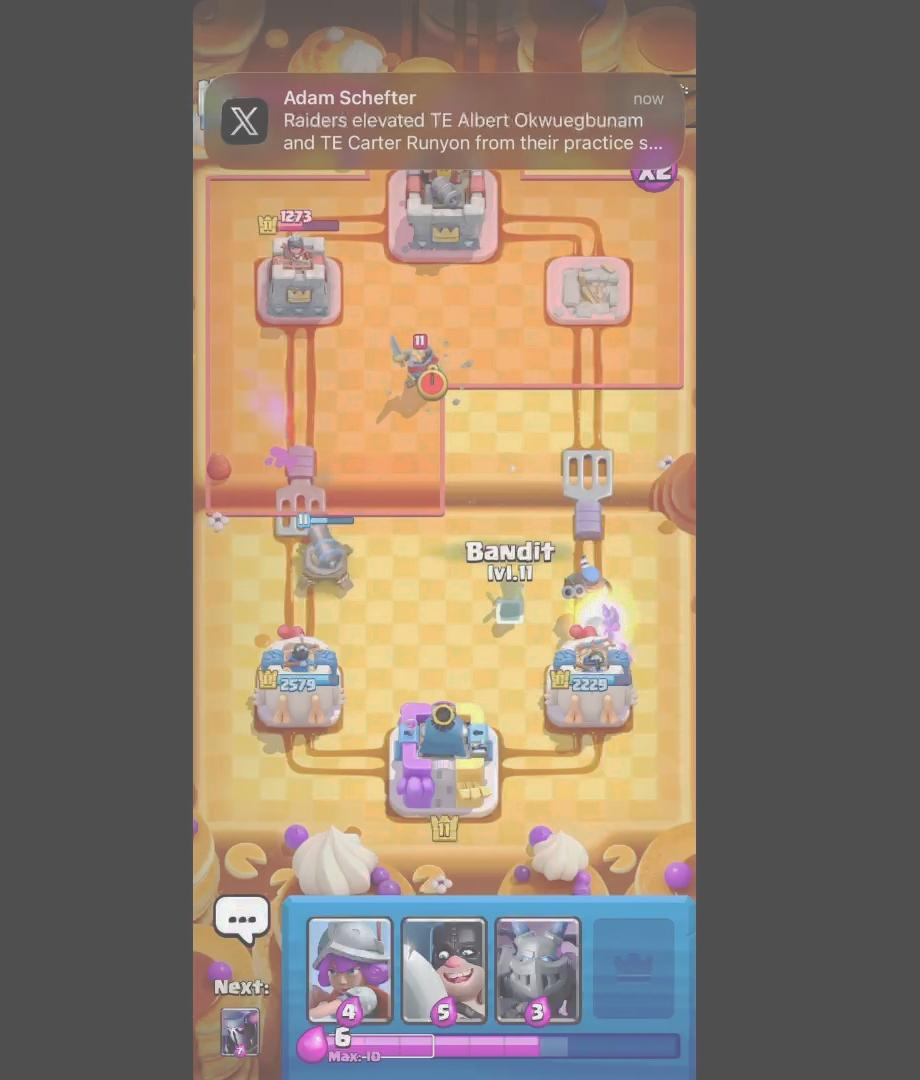Knight: (386, 329, 465, 404)
